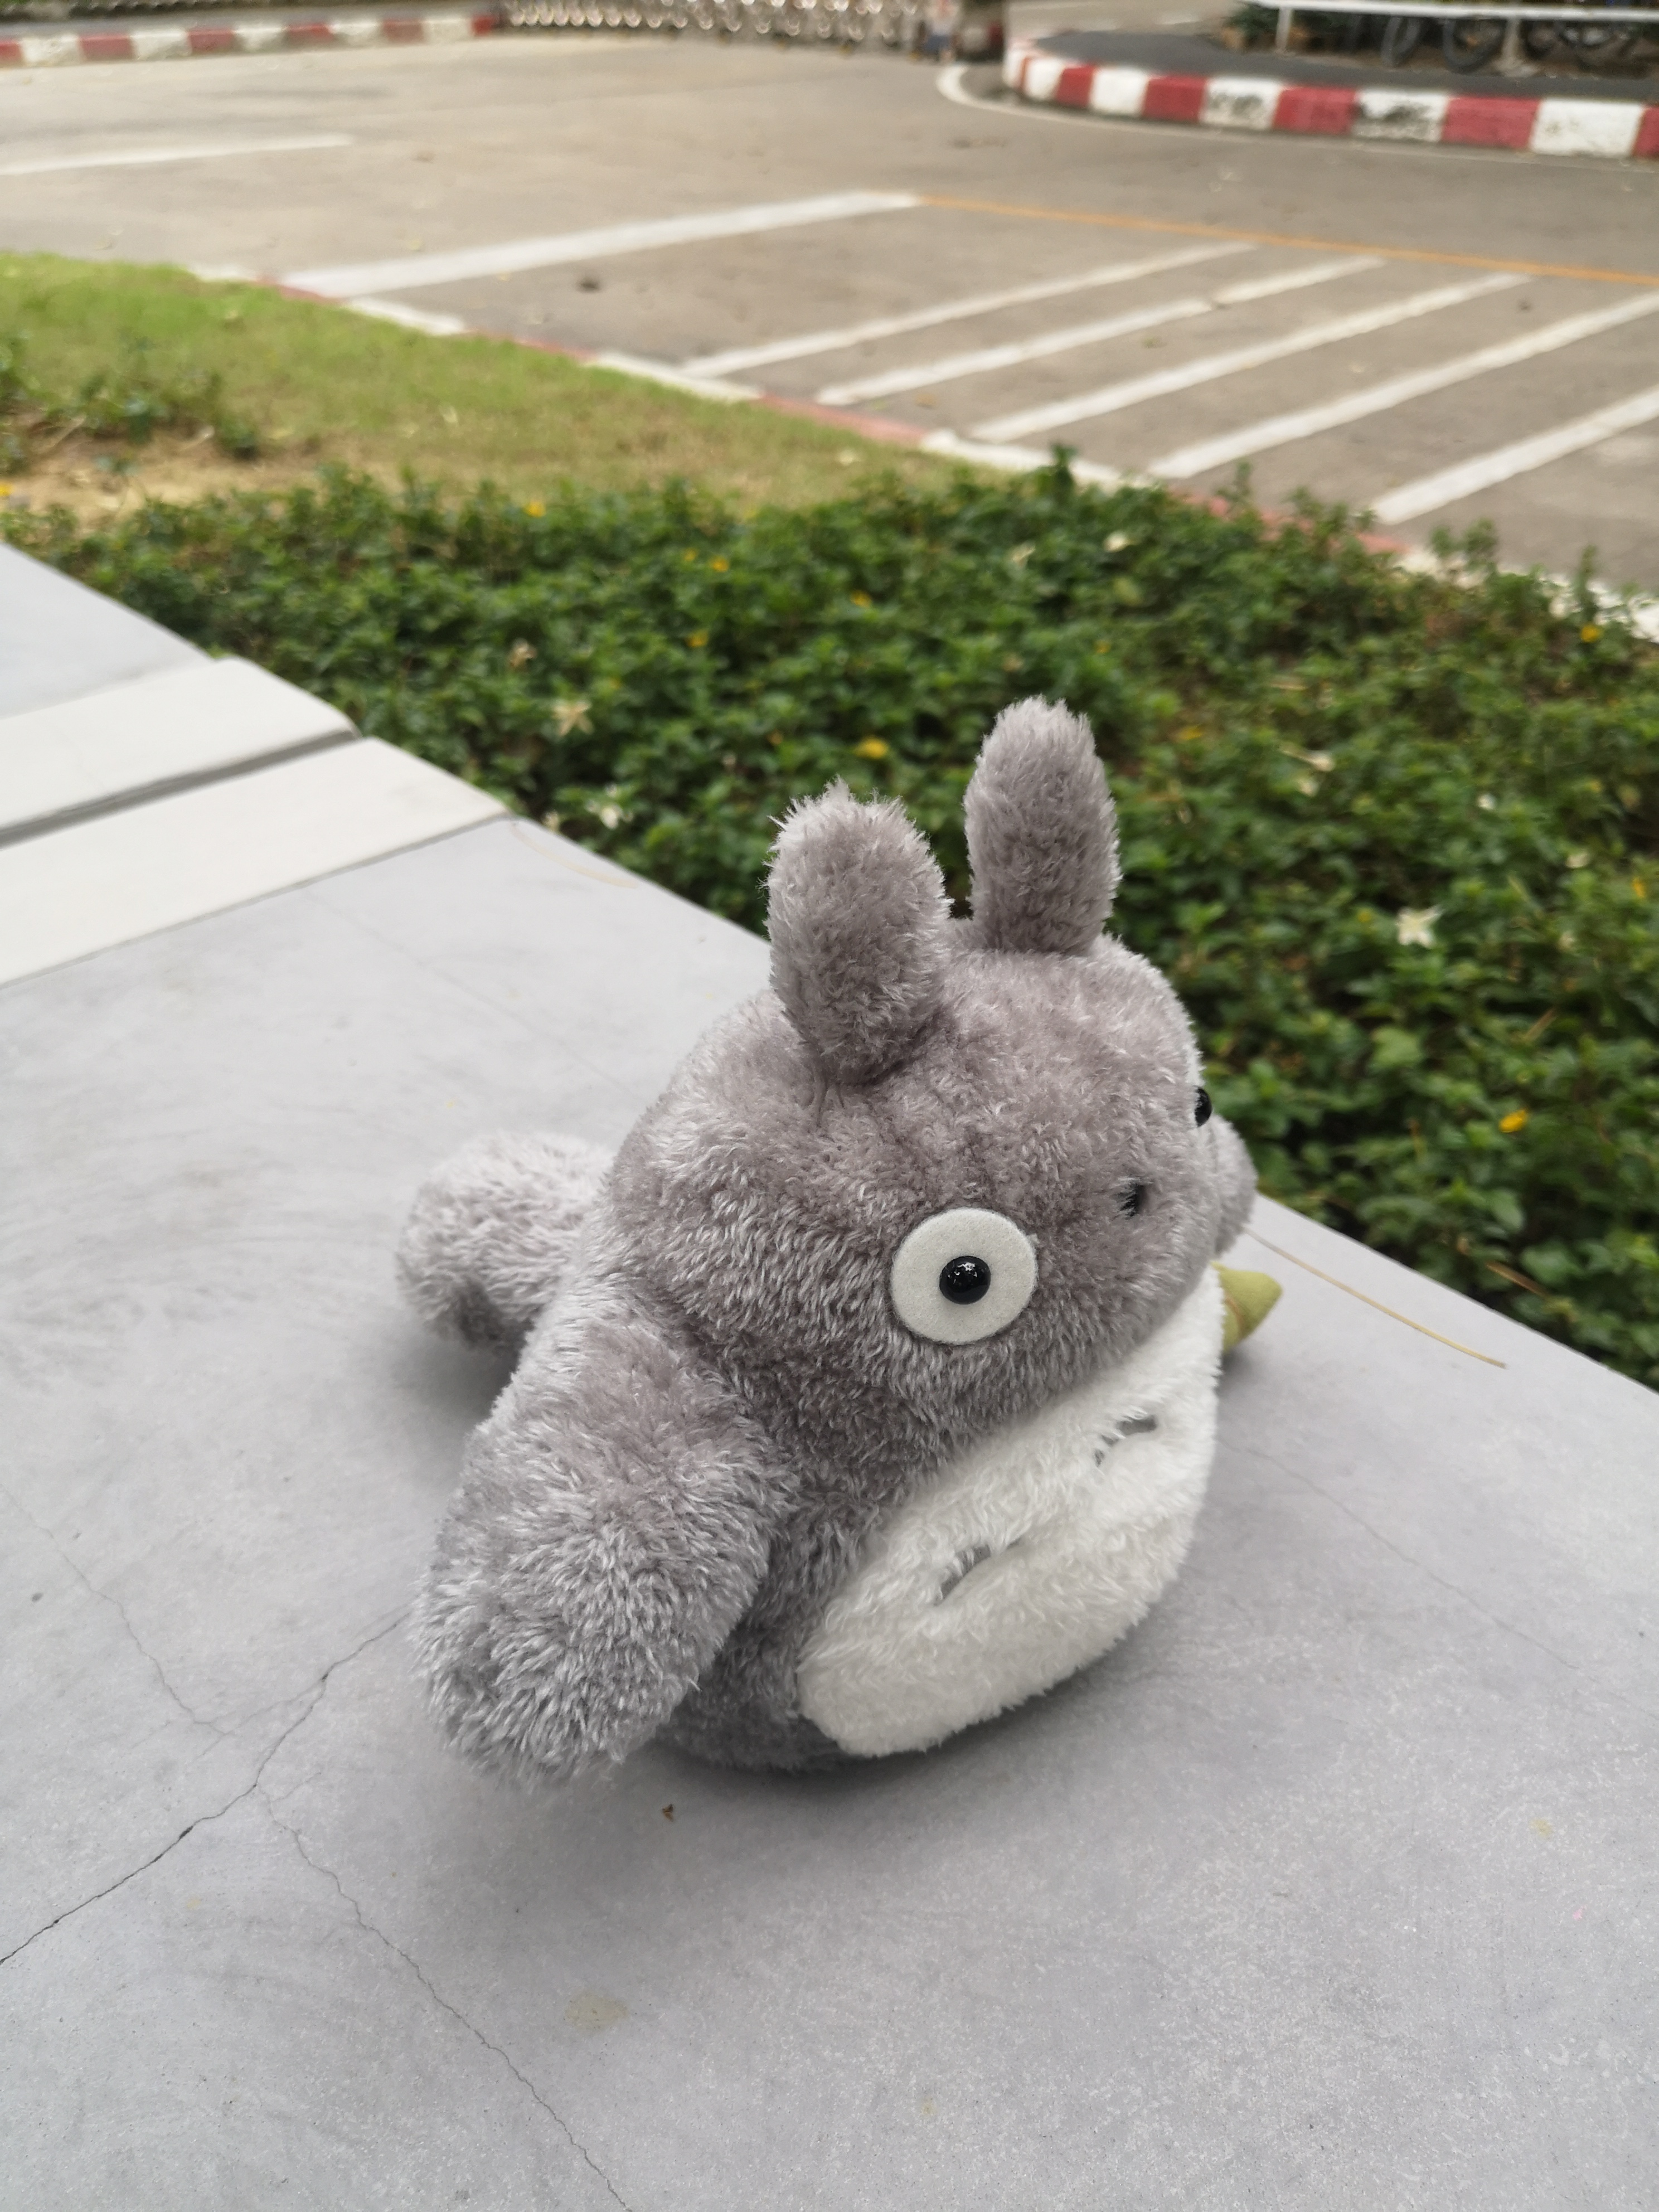totoro: (389, 698, 1293, 1817)
